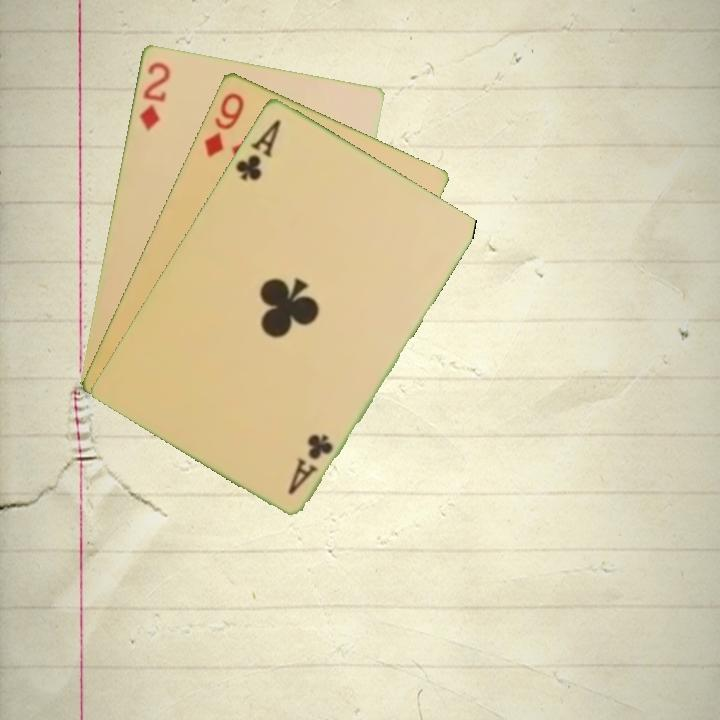2d: (135, 57, 173, 134)
9d: (200, 88, 247, 160)
Ac: (283, 429, 337, 497), (231, 115, 284, 183)
